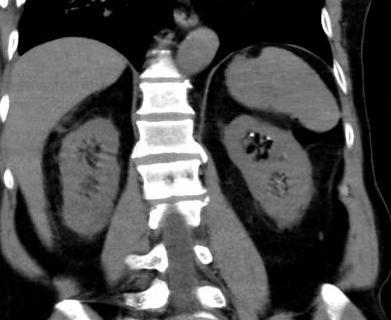Tas_Var: (248, 130, 256, 138), (266, 134, 272, 141)
